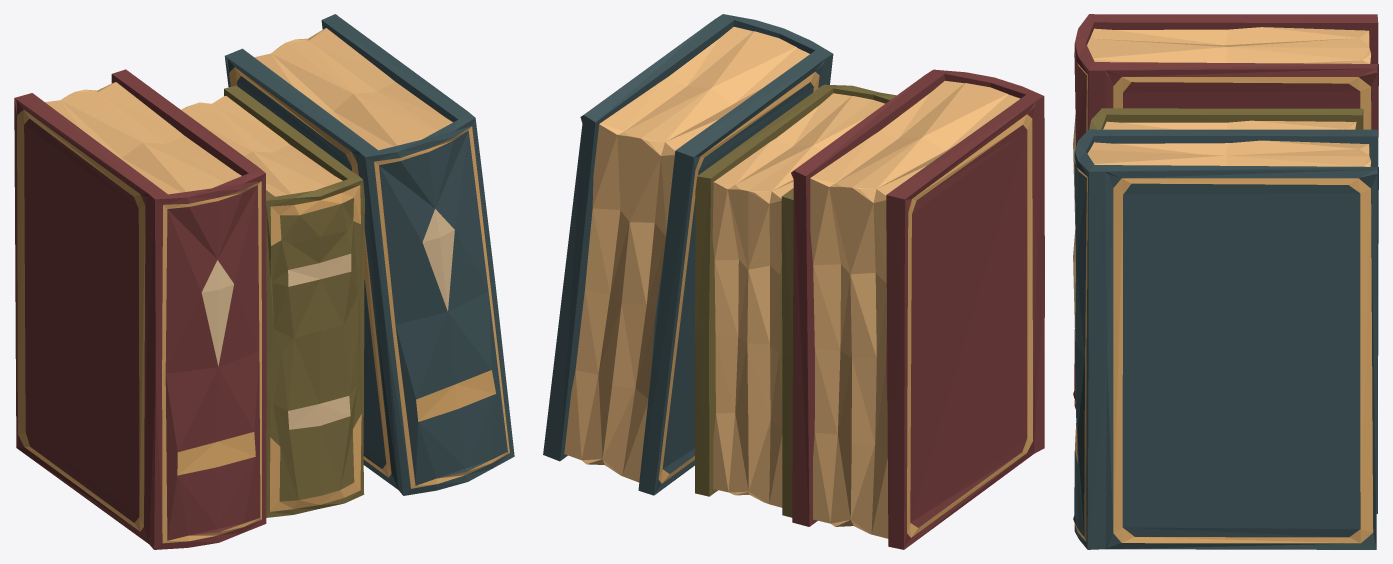
Rendered from Books_001.fbx.
The picture shows the model from 3 angles, left to right: view 1: azimuth 30°, elevation 25°; view 2: azimuth 150°, elevation 25°; view 3: azimuth 270°, elevation 25°; orthographic projection. The views are drawn at different scales.
Visible parts, largest first — view 1: Books_001; view 2: Books_001; view 3: Books_001.
Part boxes in pixels (left/top/right/bottom): Books_001: left=14, top=14, right=514, bottom=549; Books_001: left=543, top=14, right=1044, bottom=549; Books_001: left=1073, top=14, right=1378, bottom=549.
Bounding box in the file's own units: 0.3382 × 0.3246 × 0.2403.
